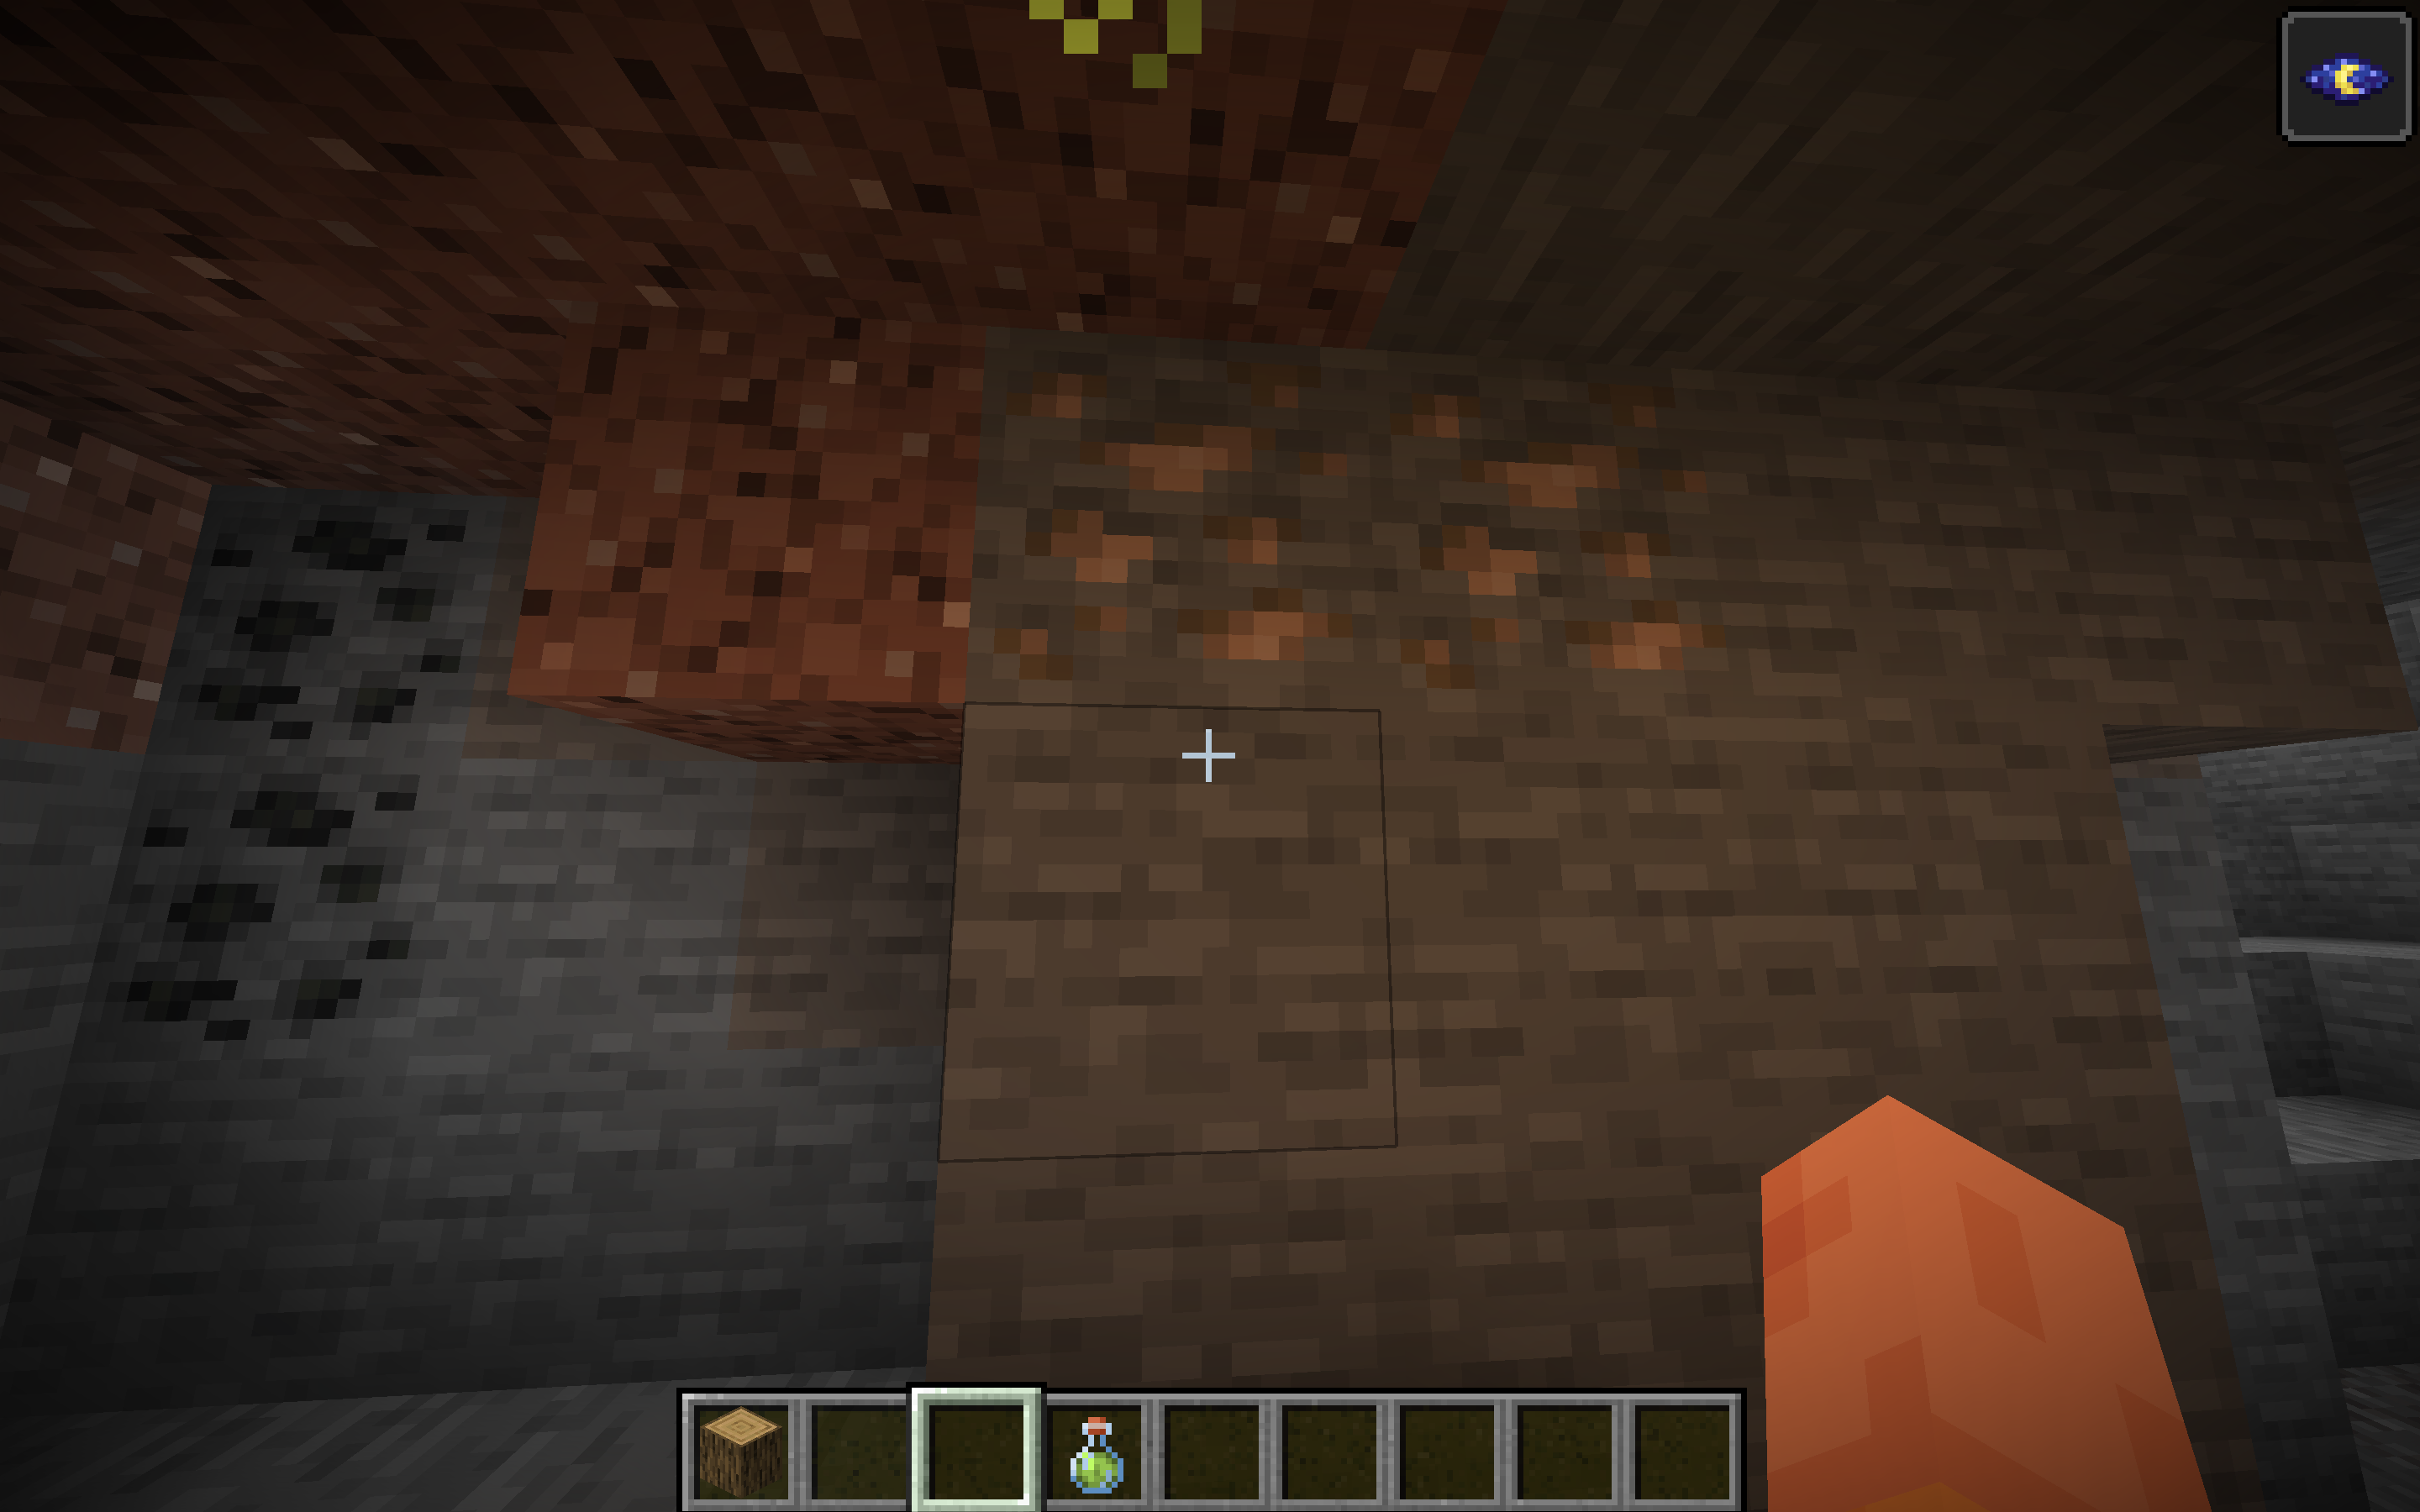iron: (596, 143, 2084, 887)
